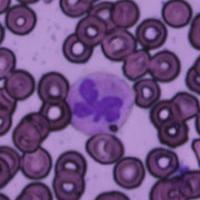N: (66, 70, 134, 135)
